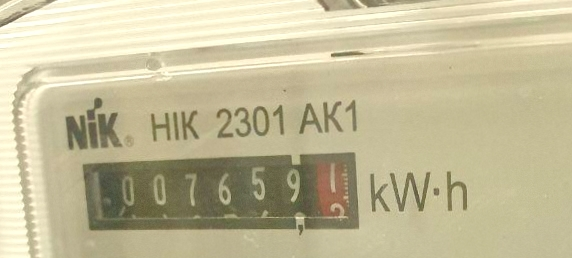0: (149, 168, 169, 209), (118, 171, 138, 209)
1: (322, 158, 341, 195)
5: (247, 163, 269, 203)
6: (213, 167, 235, 208)
7: (180, 168, 202, 207)
9: (283, 164, 304, 205)
screen: (73, 146, 366, 240)
